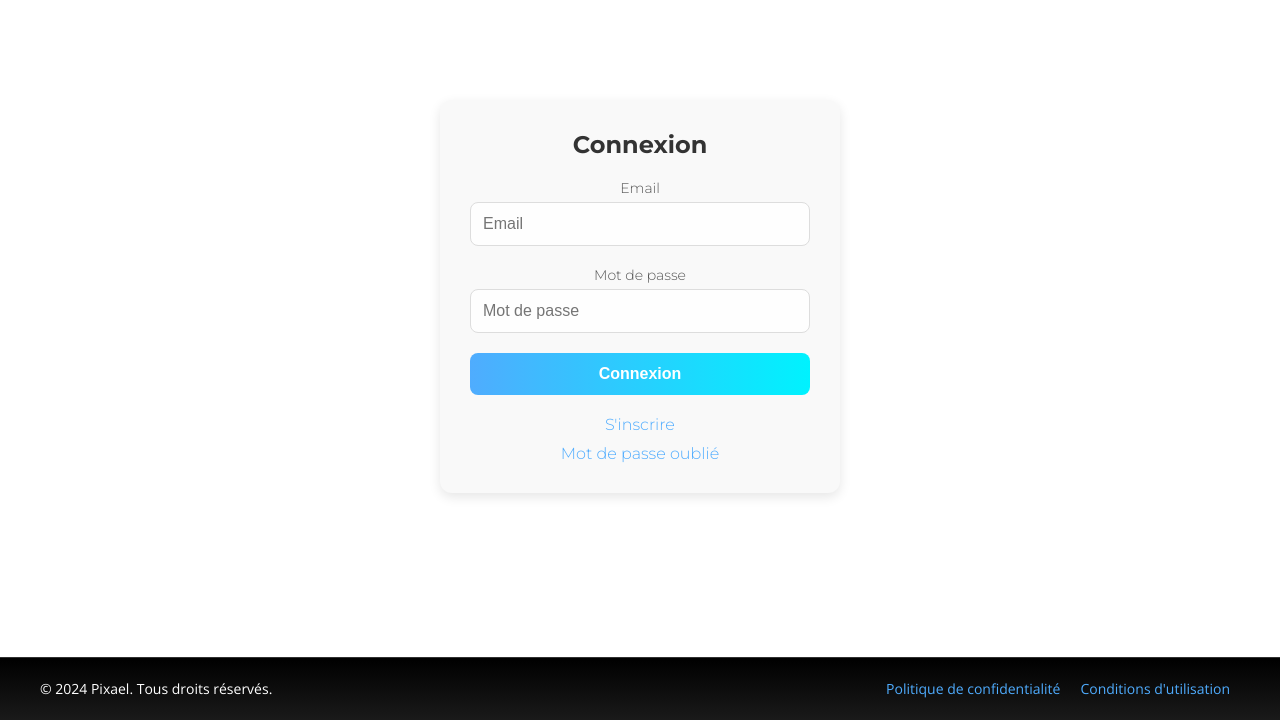
Test case: LoginPage › affiche un message d’erreur en cas de connexion échouée
Type "test@example.com" into the field labelled "Email". click: (640, 224)
box: top-left (470, 202), bottom-right (810, 246)
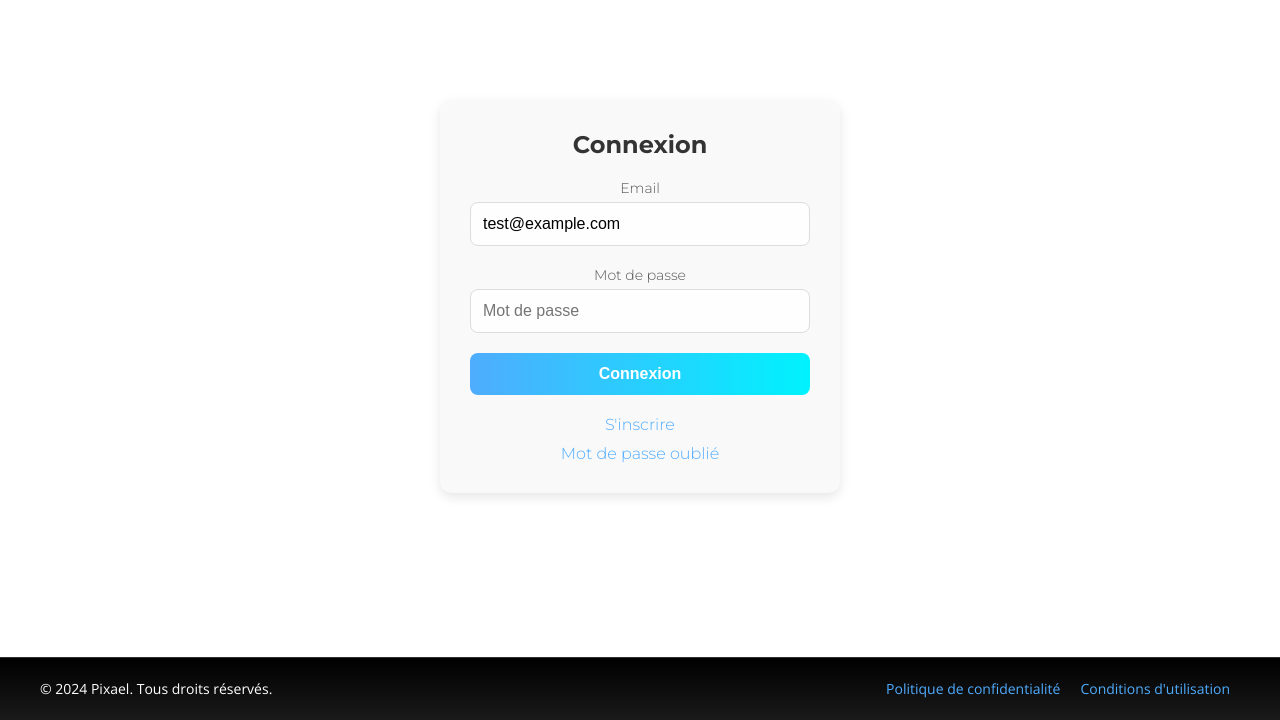
Type "wrongpassword" into the password field labelled "Mot de passe". click: (640, 311)
box: top-left (470, 289), bottom-right (810, 333)
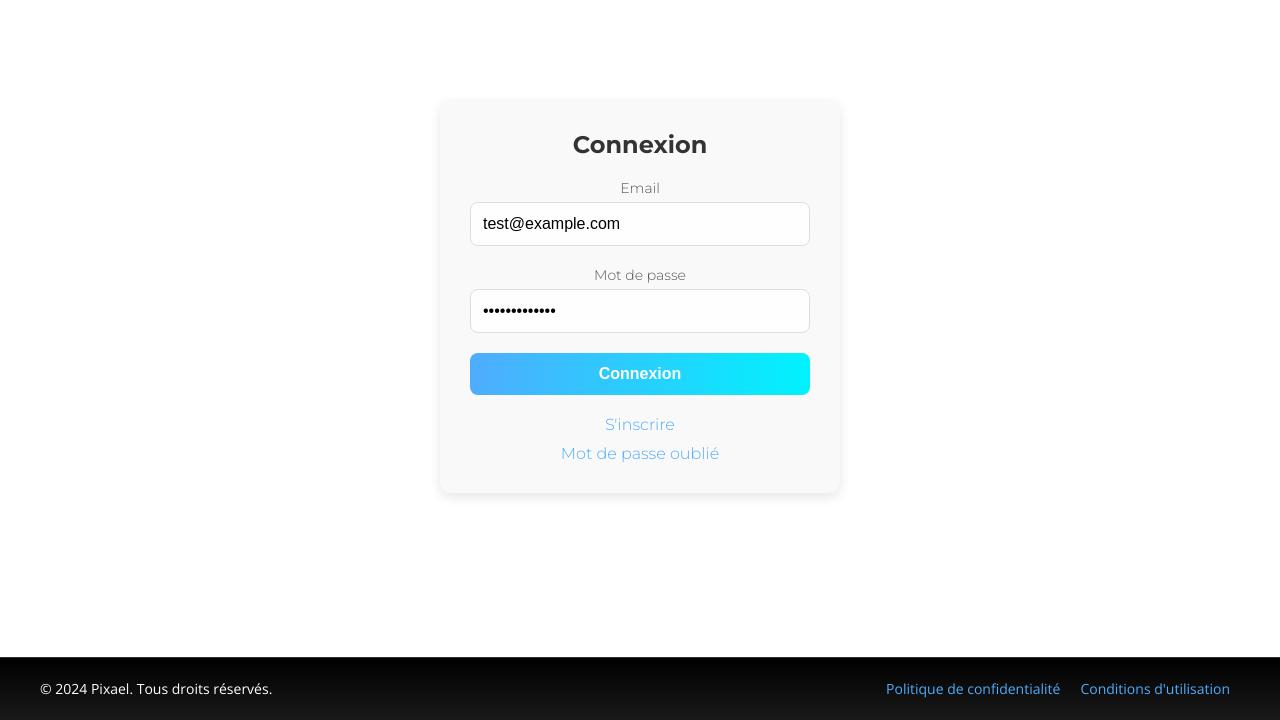
Click the button "Connexion". click: (640, 374)
box: top-left (470, 353), bottom-right (810, 395)
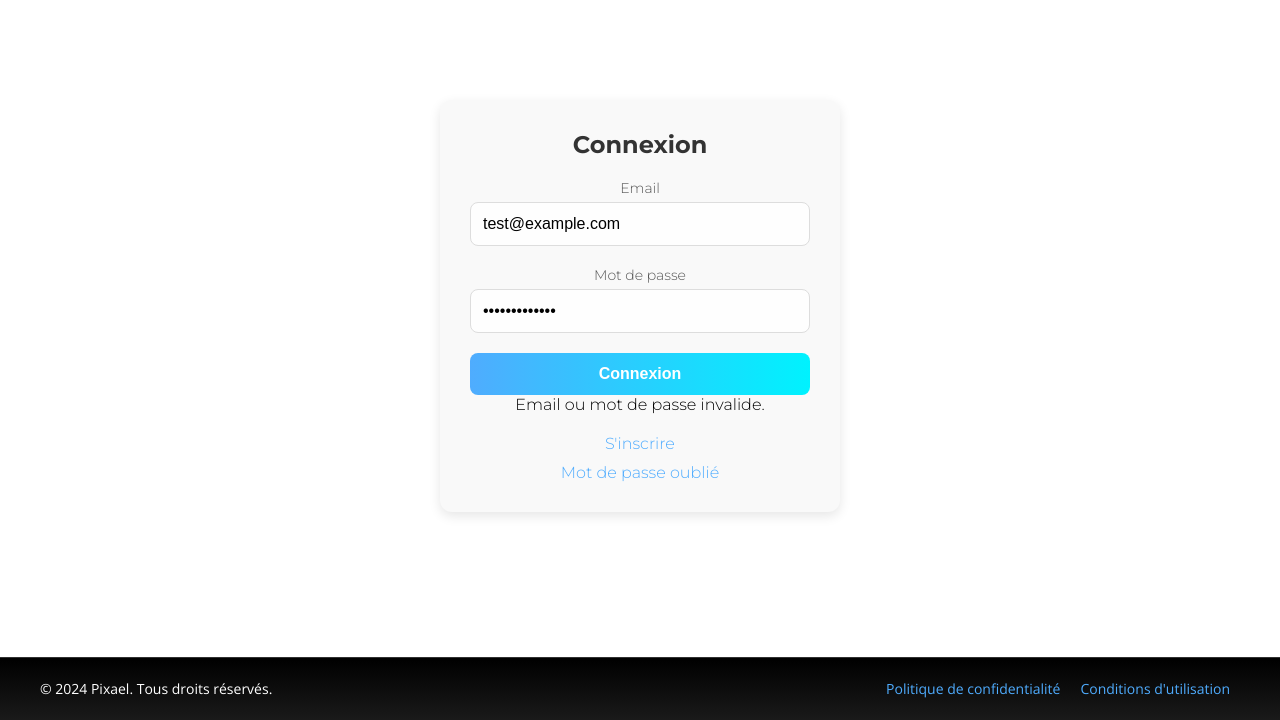
Now the text "Email ou mot de passe invalide." is shown, box top-left (515, 395), bottom-right (765, 414)
